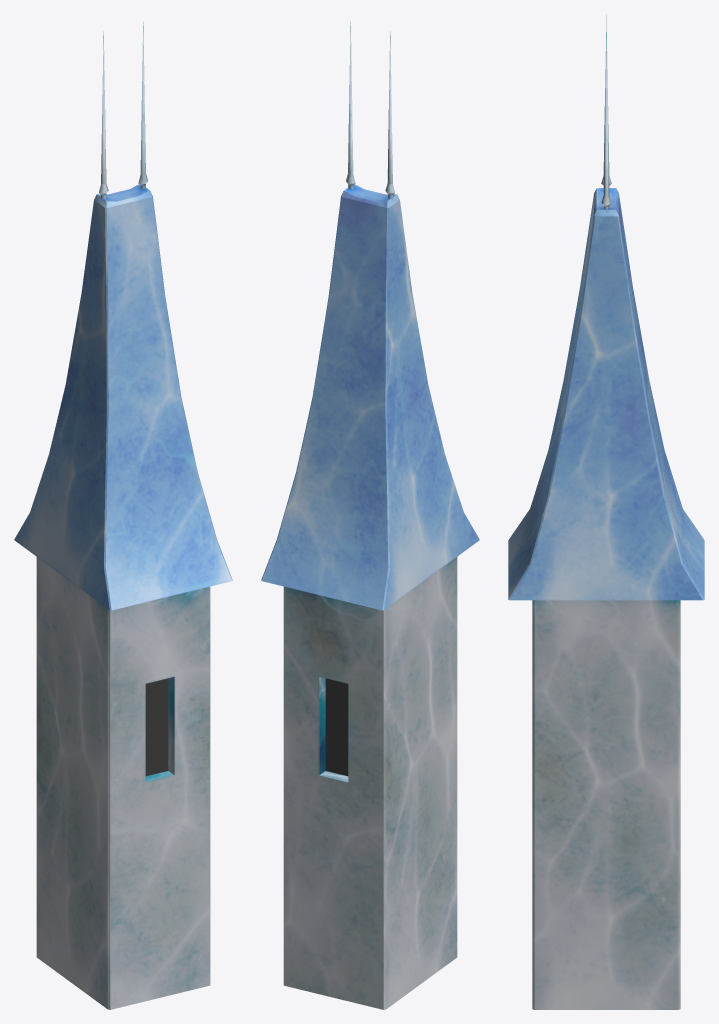
The model's file is sb_obj_outdoor023_IceCastle01_hut00.fbx.
3 renders of one model, left to right at view 1: azimuth 30°, elevation 25°; view 2: azimuth 150°, elevation 25°; view 3: azimuth 270°, elevation 25°, orthographic.
Parts seen in each view (by area): view 1: sb_obj_outdoor023_IceCastle01_hut00; view 2: sb_obj_outdoor023_IceCastle01_hut00; view 3: sb_obj_outdoor023_IceCastle01_hut00.
Part boxes in pixels (box(x1,y1,x2,y2)): sb_obj_outdoor023_IceCastle01_hut00: box(14, 22, 232, 1009); sb_obj_outdoor023_IceCastle01_hut00: box(261, 22, 479, 1009); sb_obj_outdoor023_IceCastle01_hut00: box(508, 14, 704, 1009).
Bounding box in the file's own units: 0.8486 × 6.28 × 1.16.
